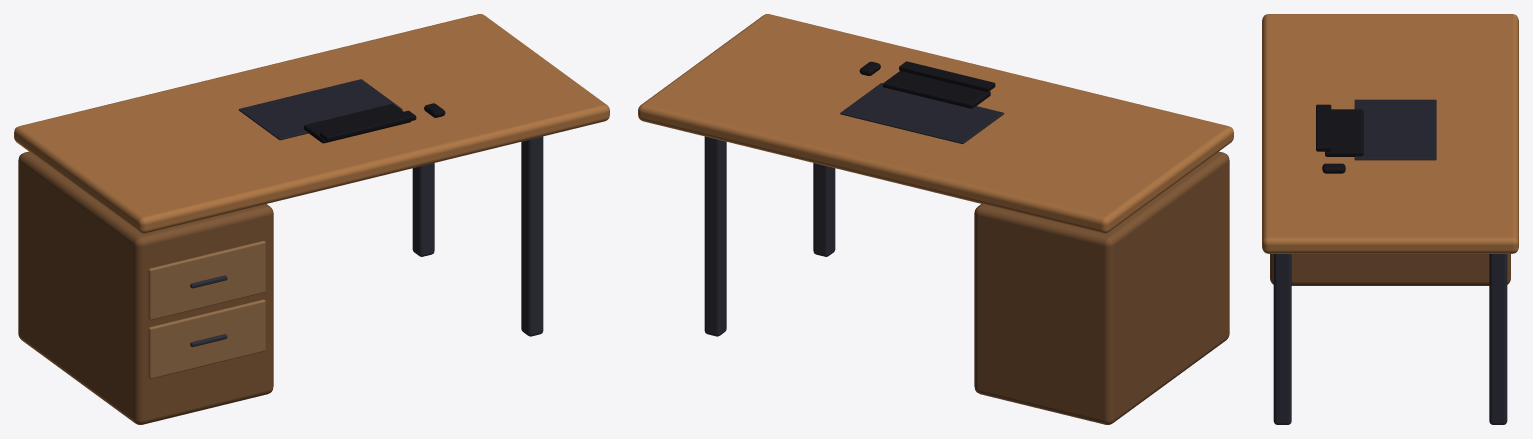
File: desk.glb
3 views of the same model, side by side, from view 1: azimuth 30°, elevation 25°; view 2: azimuth 150°, elevation 25°; view 3: azimuth 270°, elevation 25° (orthographic).
Size of the model in its own units: 2.1 by 0.977 by 1.
